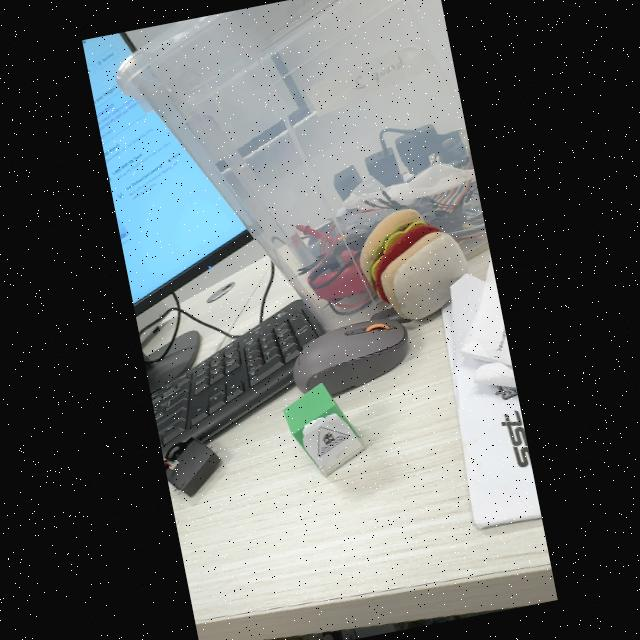Tsunami: (318, 427, 348, 457)
